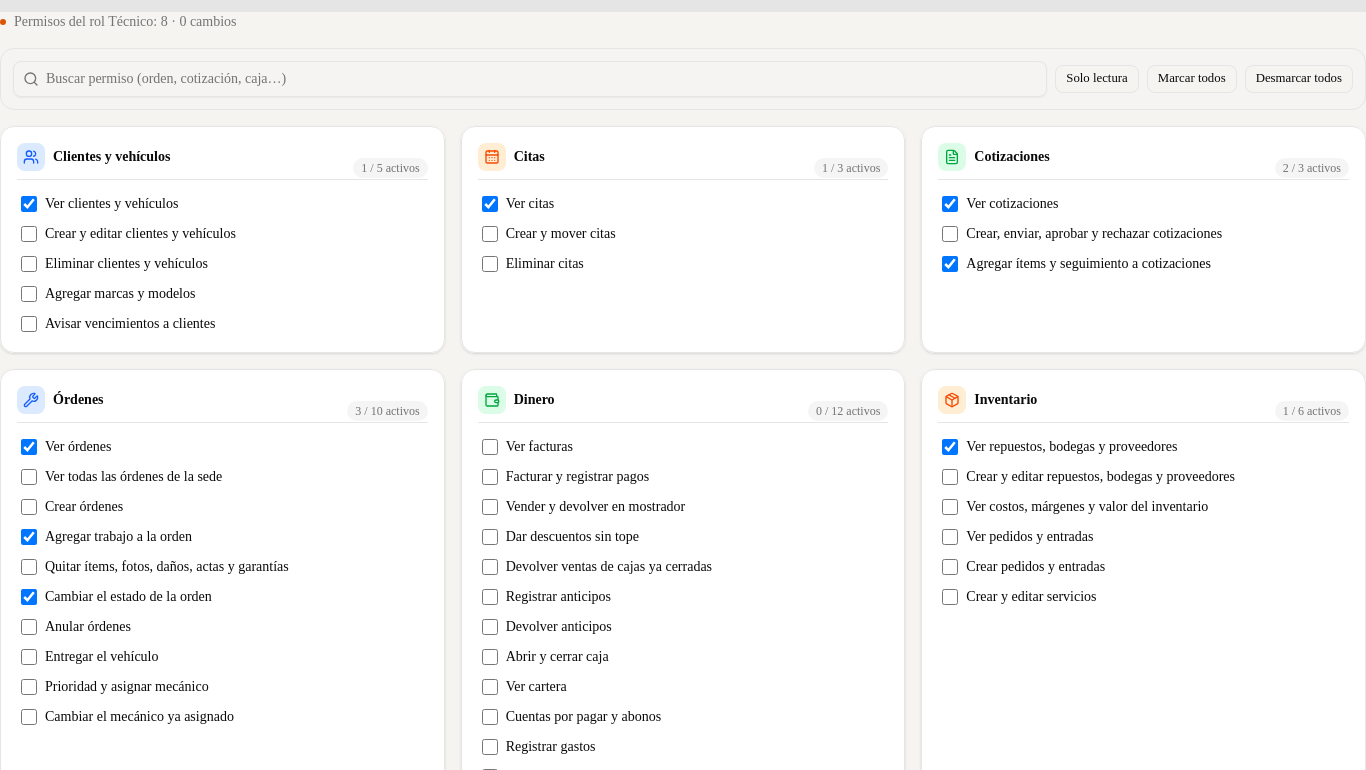
PermisosUsuario › tarjetas, buscador y acciones masivas (rediseño, tarea 3) › marcar un permiso marca sus requisitos (Facturar → Ver facturas)
Click the checkbox labelled "Facturar y registrar pagos". click: (490, 477)
box: [482,469,498,485]
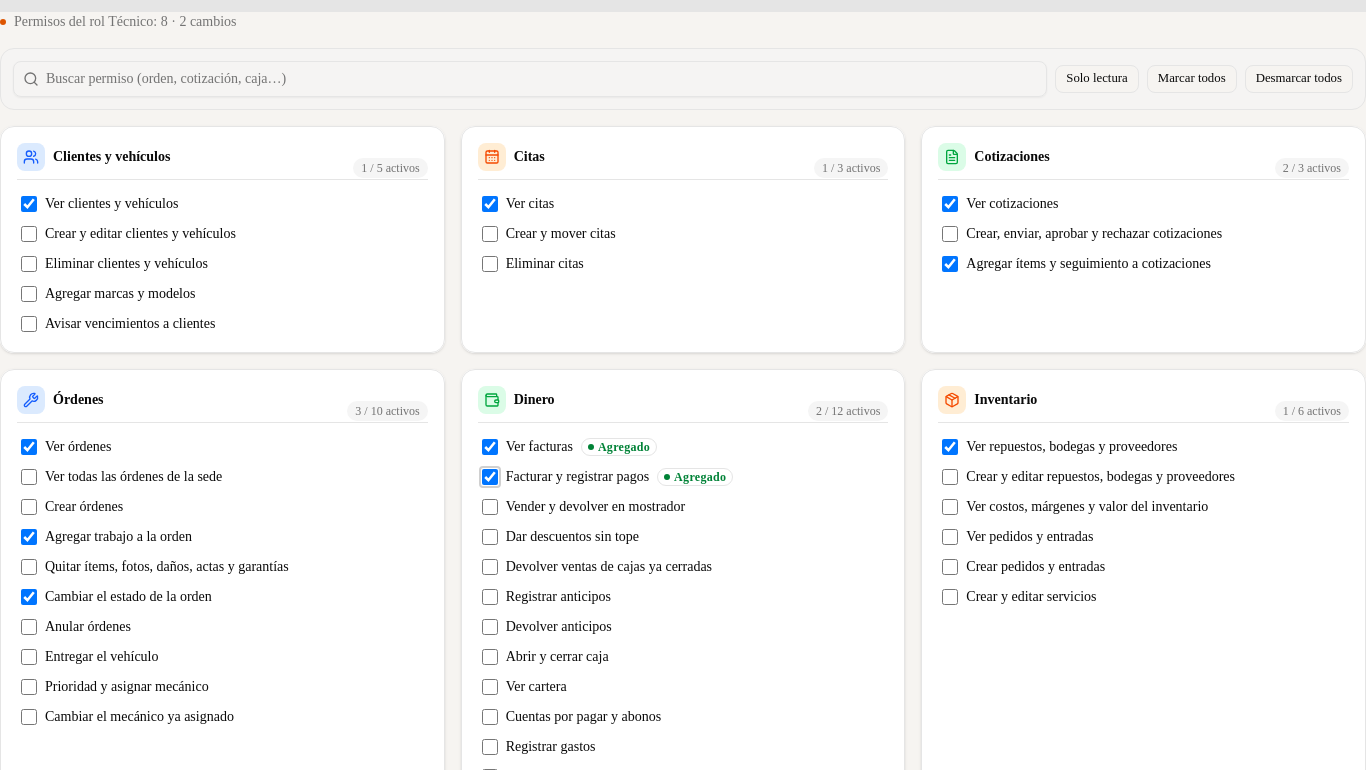
Now the checkbox labelled "Ver facturas Agregado" is checked, box [482,439,498,455]
